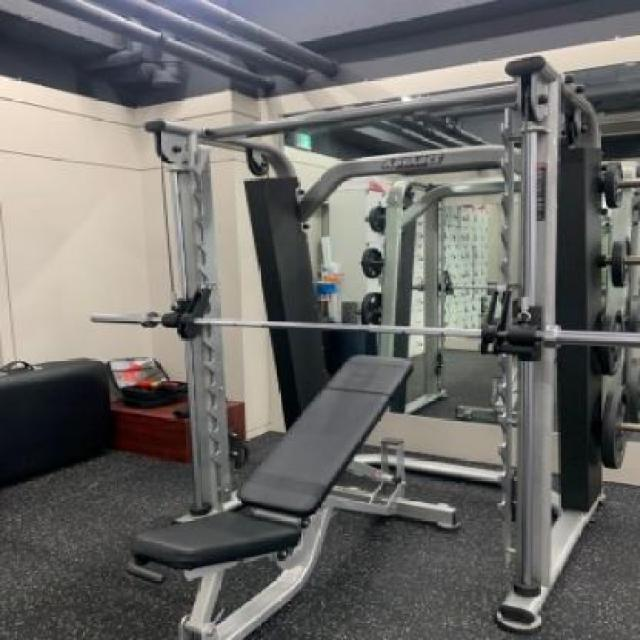smith machine: (144, 55, 640, 639)
